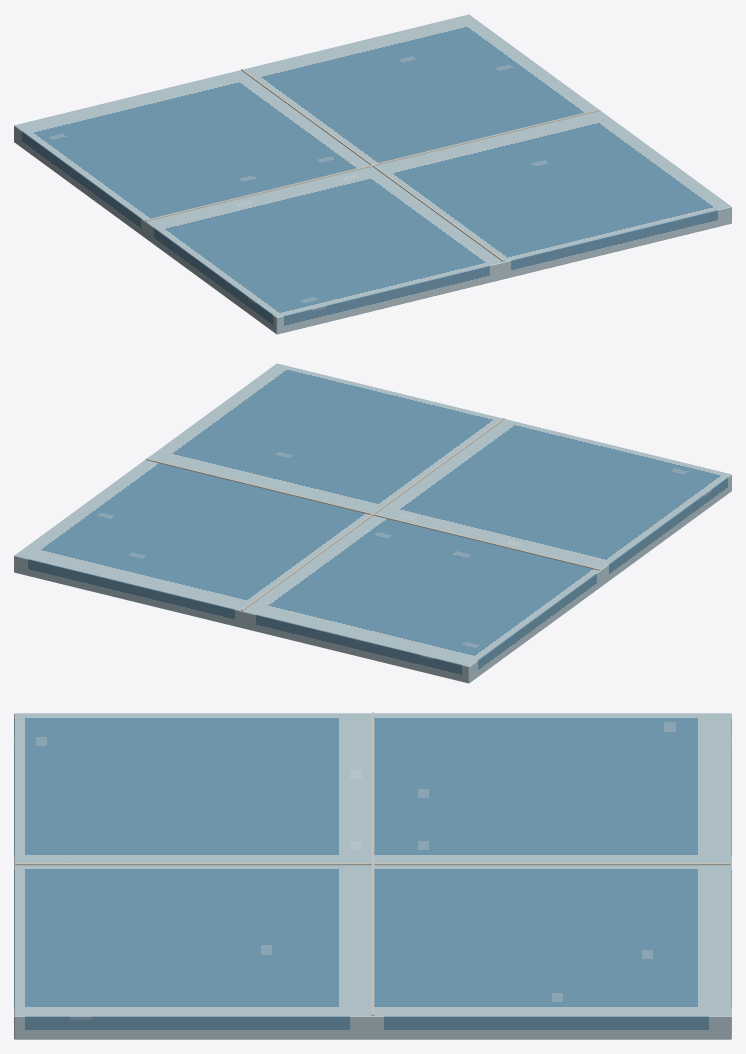
The model's file is pool_basin_tile_module.glb.
3 renders of one model, top to bottom at view 1: azimuth 30°, elevation 25°; view 2: azimuth 150°, elevation 25°; view 3: azimuth 270°, elevation 25°, orthographic. The views are drawn at different scales.
Parts seen in each view (by area): view 1: pool_pool_basin_tile_module; view 2: pool_pool_basin_tile_module; view 3: pool_pool_basin_tile_module.
Part boxes in pixels (bbox=[...]): pool_pool_basin_tile_module: bbox=[14, 14, 731, 334]; pool_pool_basin_tile_module: bbox=[14, 363, 731, 683]; pool_pool_basin_tile_module: bbox=[14, 712, 731, 1039].
Bounding box in the file's own units: 0.5 × 0.019 × 0.5.
2 materials, 2 textured.
